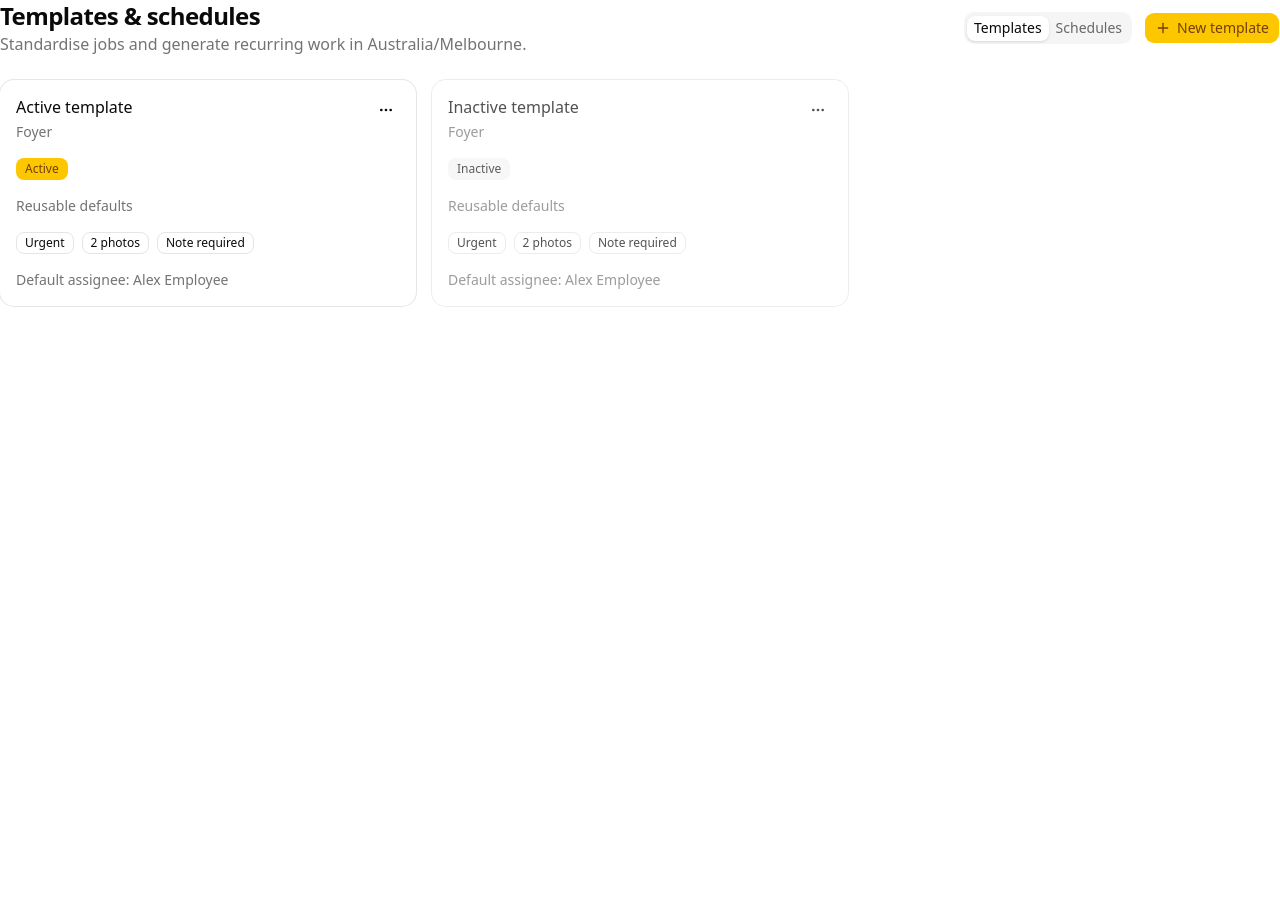
Test: TemplateScheduleWorkspace › places inactive templates last and moves card actions into a menu
The width and height of the screenshot is (1280, 900).
Expected: the element named "Template workspace" is shown, x1=964 y1=12 x2=1132 y2=44
Expected: the button "Edit" is not shown
Click the button named "Template actions for Active template" at (386, 110), box x1=372 y1=96 x2=400 y2=124
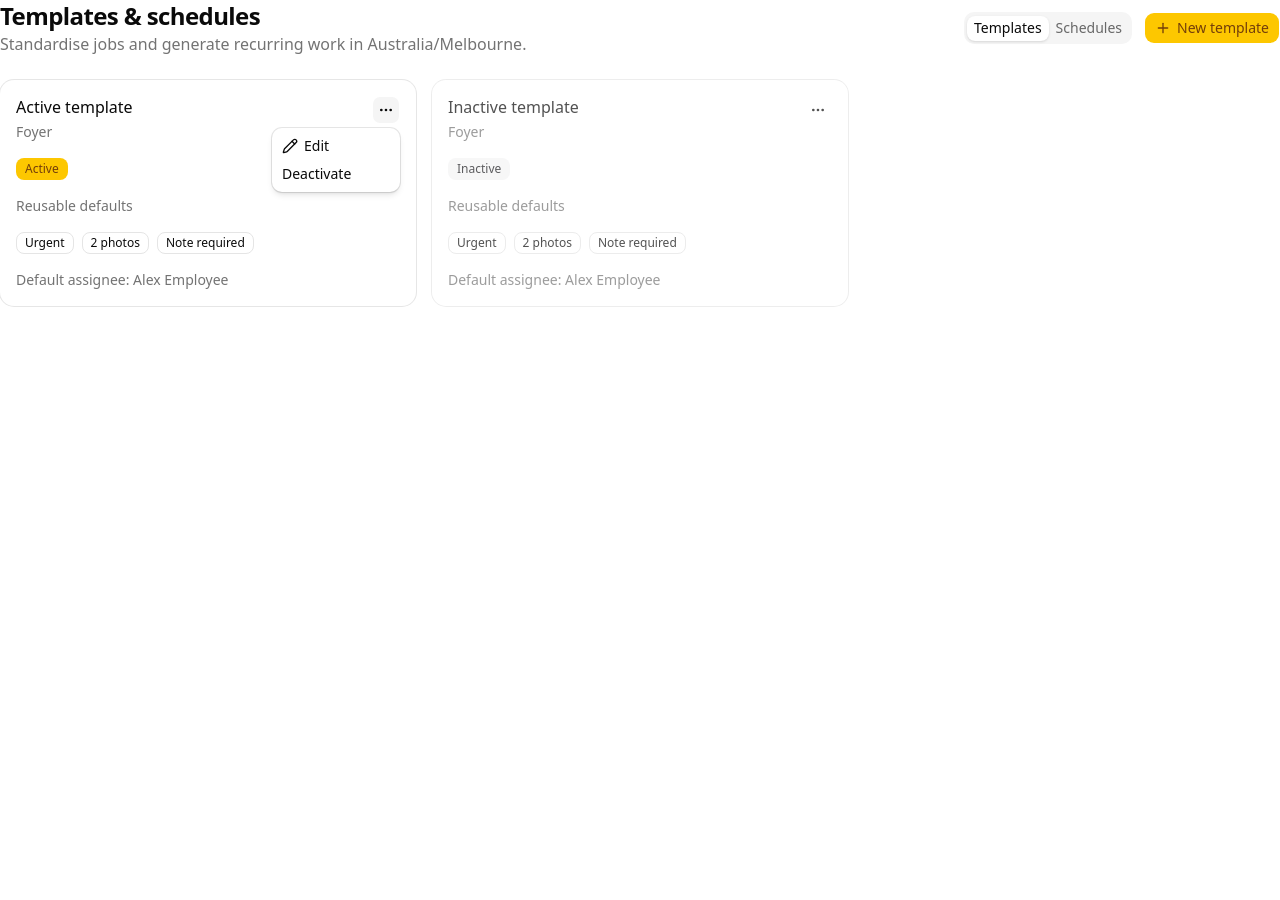
Click the menu item "Edit" at (306, 146), box x1=282 y1=136 x2=329 y2=155
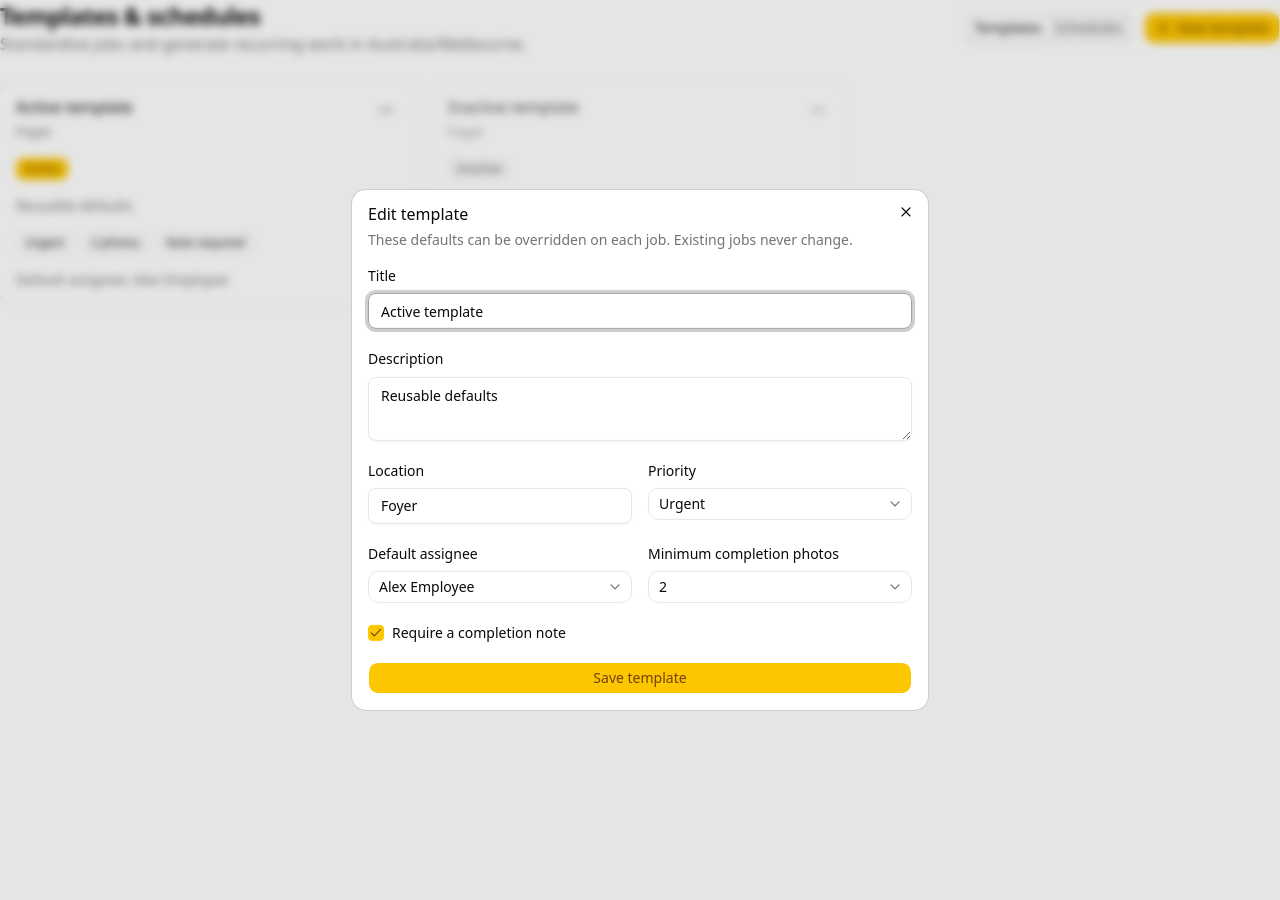
Expected: the dropdown named "Priority" shows "Urgent", x1=648 y1=488 x2=912 y2=520
Expected: the dropdown named "Default assignee" shows "Alex Employee", x1=368 y1=571 x2=632 y2=603
Expected: the dropdown named "Minimum completion photos" shows "2"
Click the dropdown named "Minimum completion photos" at (663, 586), box x1=648 y1=571 x2=912 y2=603
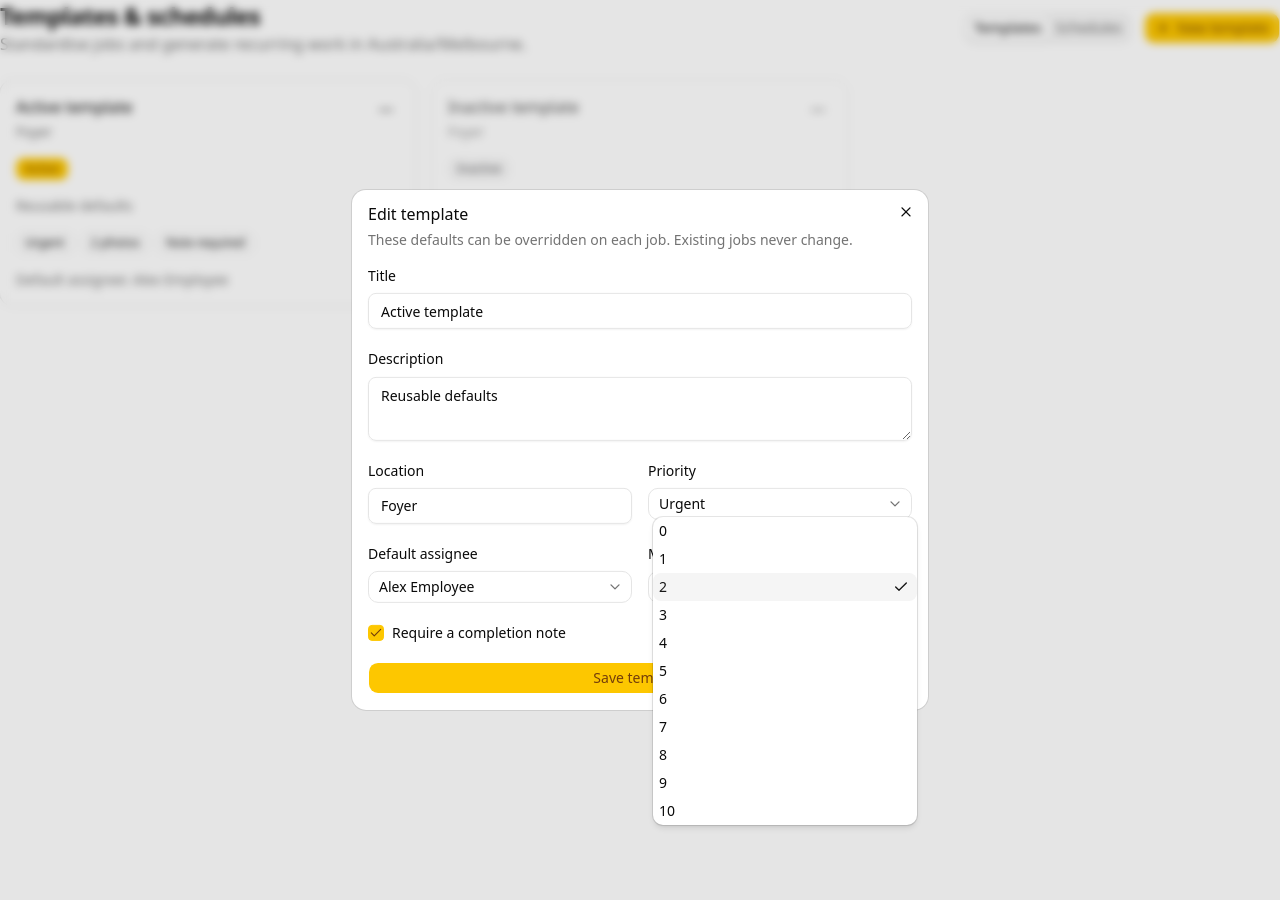
Expected: the number of options is 11
